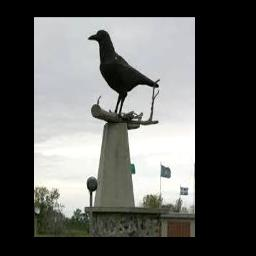Crow: (88, 29, 160, 119)
